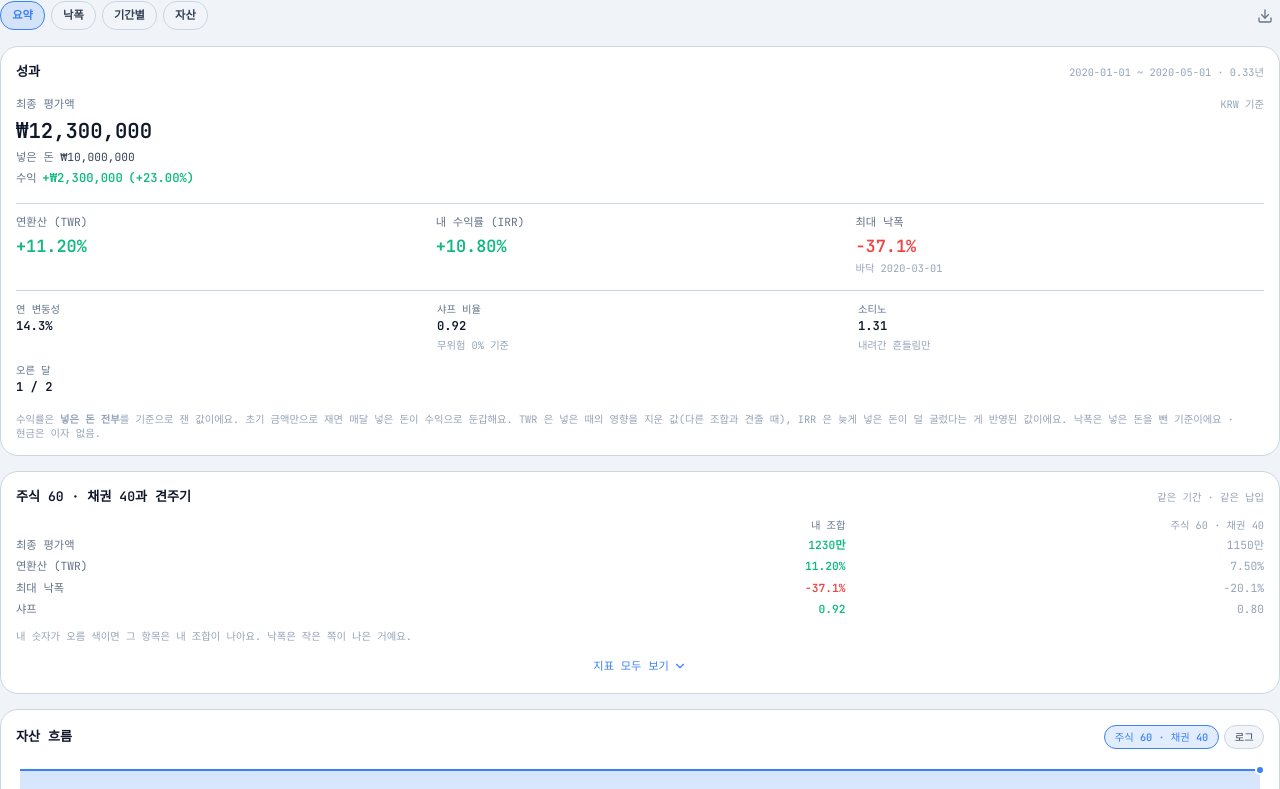
Scenario: 폭락 때 — 벤치마크와 짝짓기 › 폭락 줄을 key 로 짝짓는다 — 차례로 짝짓지 않는다
The image size is (1280, 789).
Click the tab "낙폭" at (73,16), box [51,1,96,30]
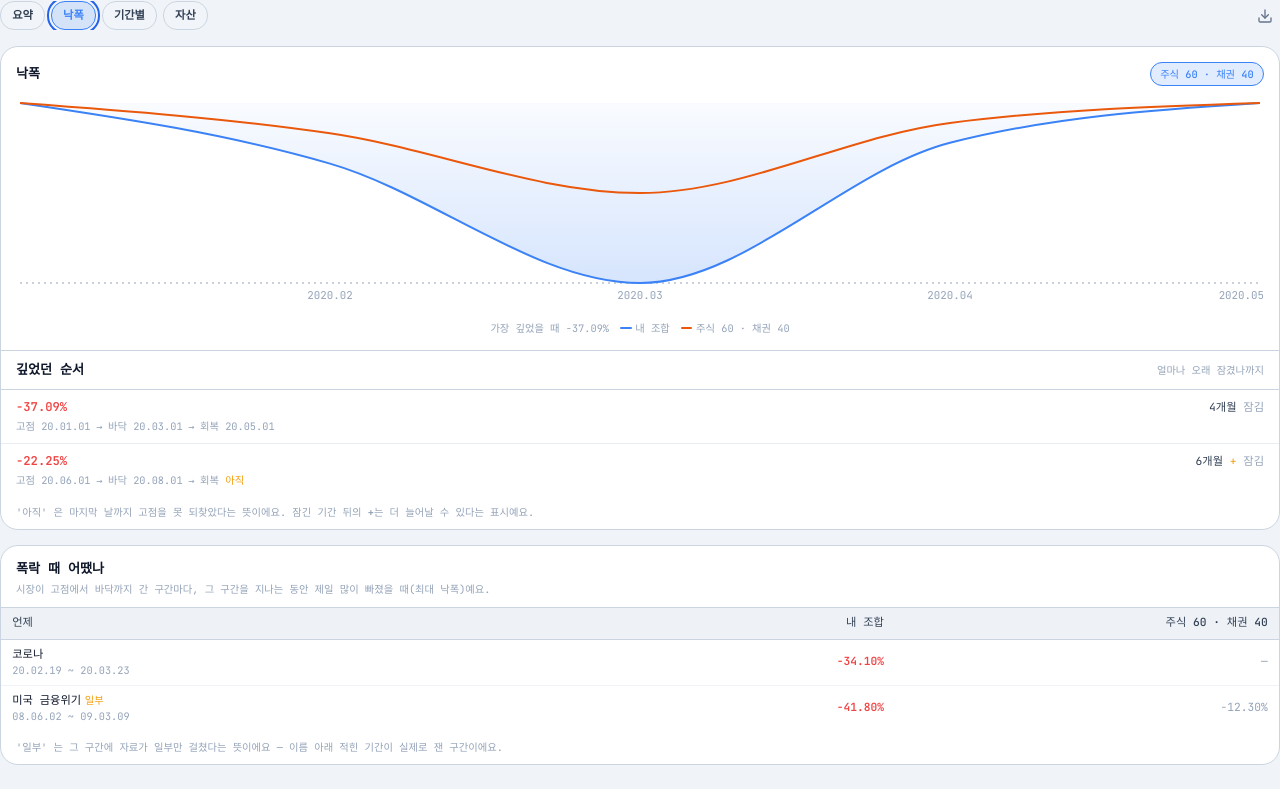
Expected: the text "미국 금융위기" shows "-12.30%", [1220,700,1268,714]
